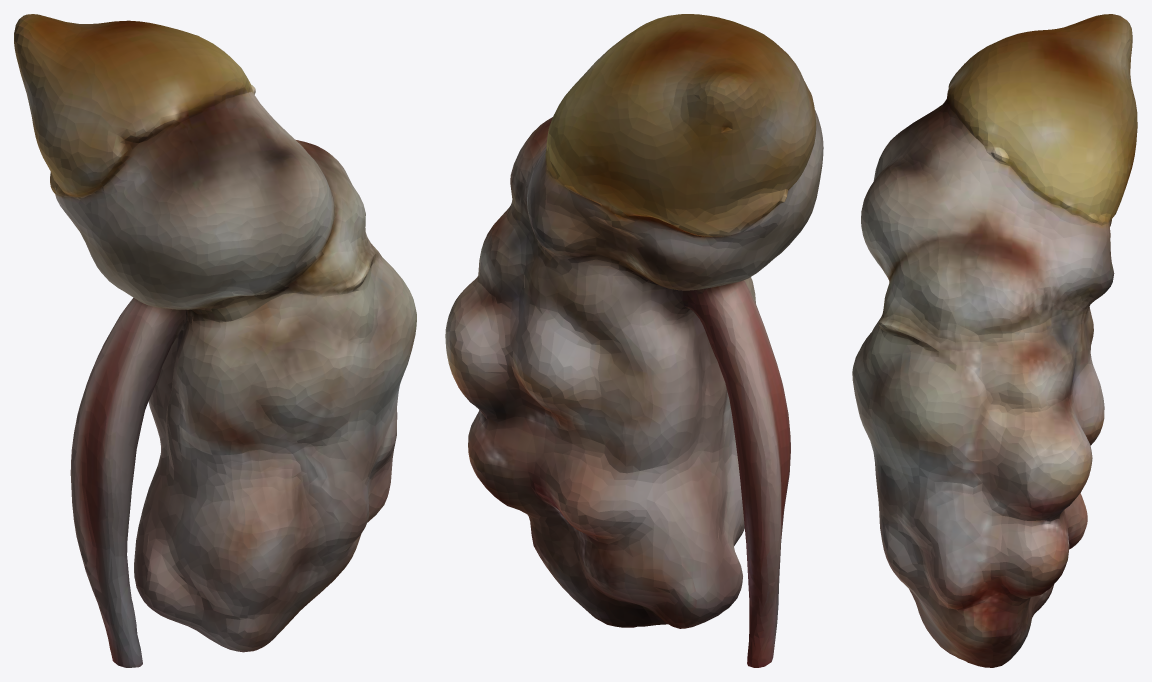
The model's file is Chr-Kidney-Disease.glb.
3 views of the same model, side by side, from view 1: azimuth 30°, elevation 25°; view 2: azimuth 150°, elevation 25°; view 3: azimuth 270°, elevation 25° (orthographic). The views are drawn at different scales.
Visible parts, largest first — view 1: ChrKidneyDisease; view 2: ChrKidneyDisease; view 3: ChrKidneyDisease.
Boxes of the visible parts, bbox=[...] form: ChrKidneyDisease: bbox=[14, 14, 416, 667]; ChrKidneyDisease: bbox=[445, 14, 823, 667]; ChrKidneyDisease: bbox=[852, 14, 1137, 667].
Bounding box in the file's own units: 0.5696 × 1 × 0.4514.
1 material, 1 textured.
